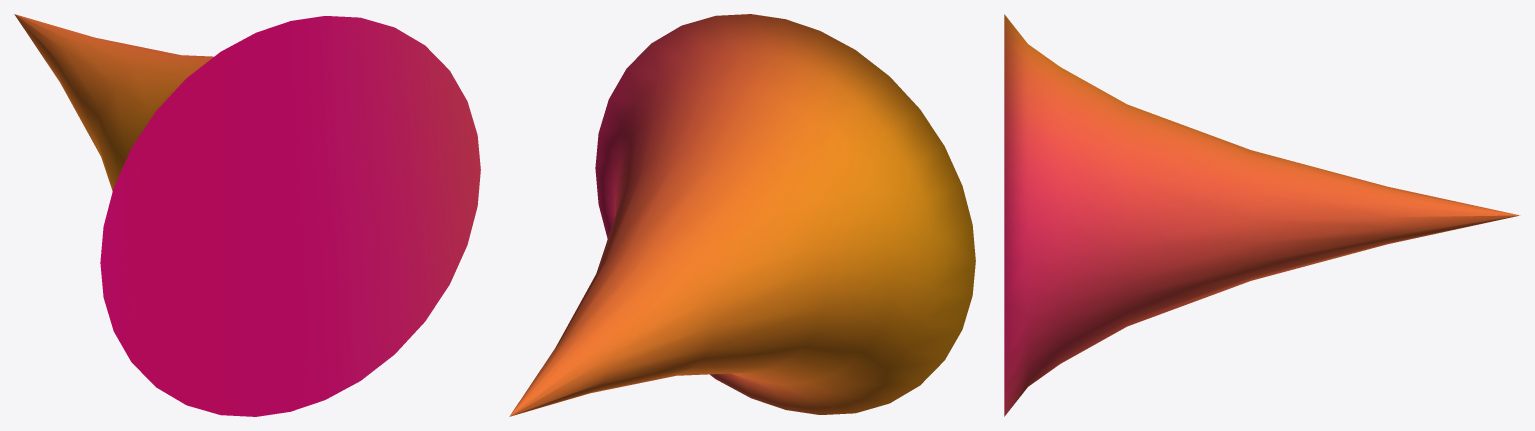
File: solidos.fbx
3 views of the same model, side by side, from view 1: azimuth 30°, elevation 25°; view 2: azimuth 150°, elevation 25°; view 3: azimuth 270°, elevation 25° (orthographic). The views are drawn at different scales.
Parts seen in each view (by area): view 1: solid_y_2___raiz_x:brep_1; view 2: solid_y_2___raiz_x:brep_1; view 3: solid_y_2___raiz_x:brep_1.
Part boxes in pixels (bbox=[...]): solid_y_2___raiz_x:brep_1: bbox=[14, 14, 480, 416]; solid_y_2___raiz_x:brep_1: bbox=[509, 14, 975, 416]; solid_y_2___raiz_x:brep_1: bbox=[1004, 14, 1520, 416].
Size of the model in its own units: 21.91 by 21.5 by 27.58.
